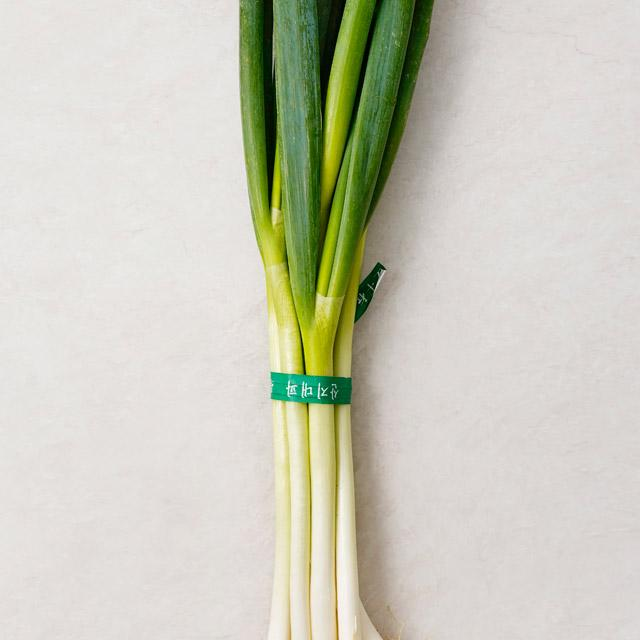green_onion: (241, 0, 436, 640)
